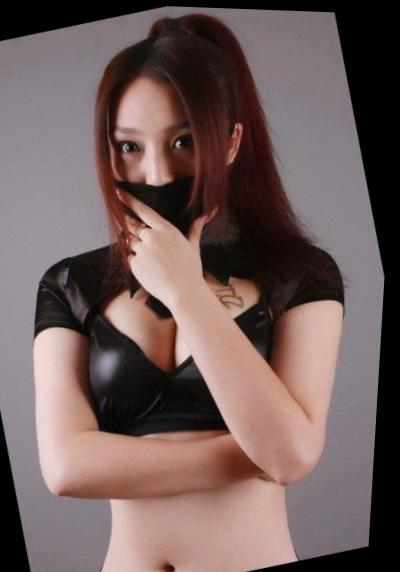WRONG: (82, 96, 237, 248)
